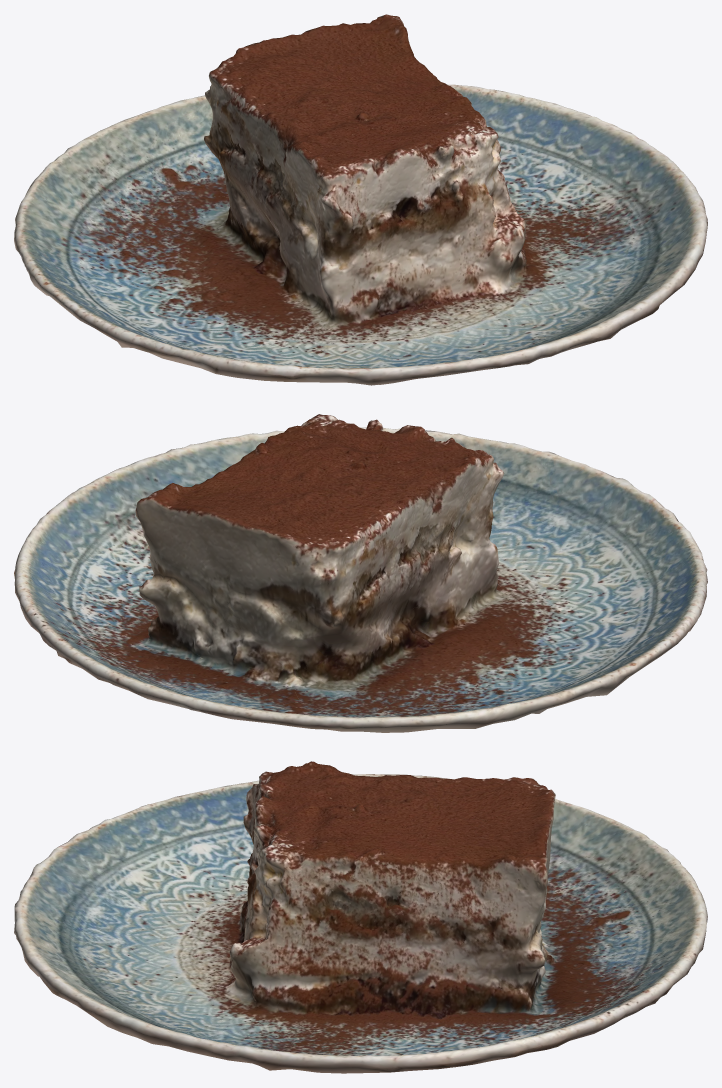
The model's file is tiramisu.glb.
The picture shows the model from 3 angles, top to bottom: view 1: azimuth 30°, elevation 25°; view 2: azimuth 150°, elevation 25°; view 3: azimuth 270°, elevation 25°; orthographic projection.
Size of the model in its own units: 0.9125 by 0.241 by 0.9149.
1 material, 1 textured.
